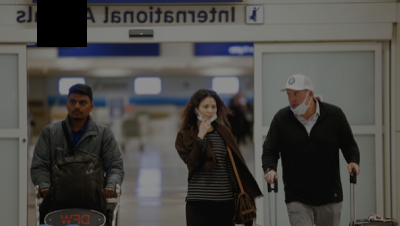mask_weared_incorrect: (286, 89, 309, 111), (197, 102, 217, 122)
without_mask: (67, 96, 90, 119)
